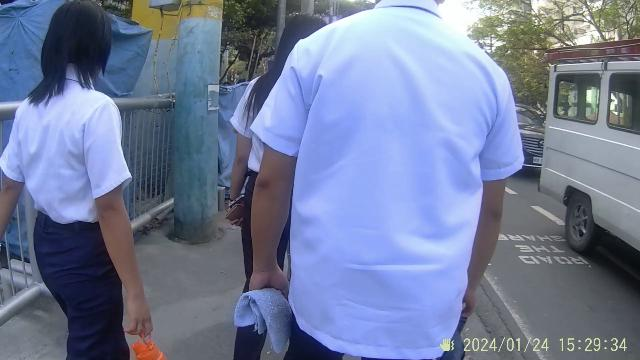utility_post: (180, 0, 216, 240)
